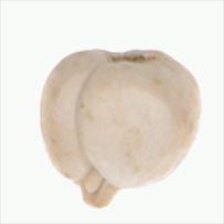L3: (73, 162, 124, 207)
L4: (41, 47, 201, 208)
